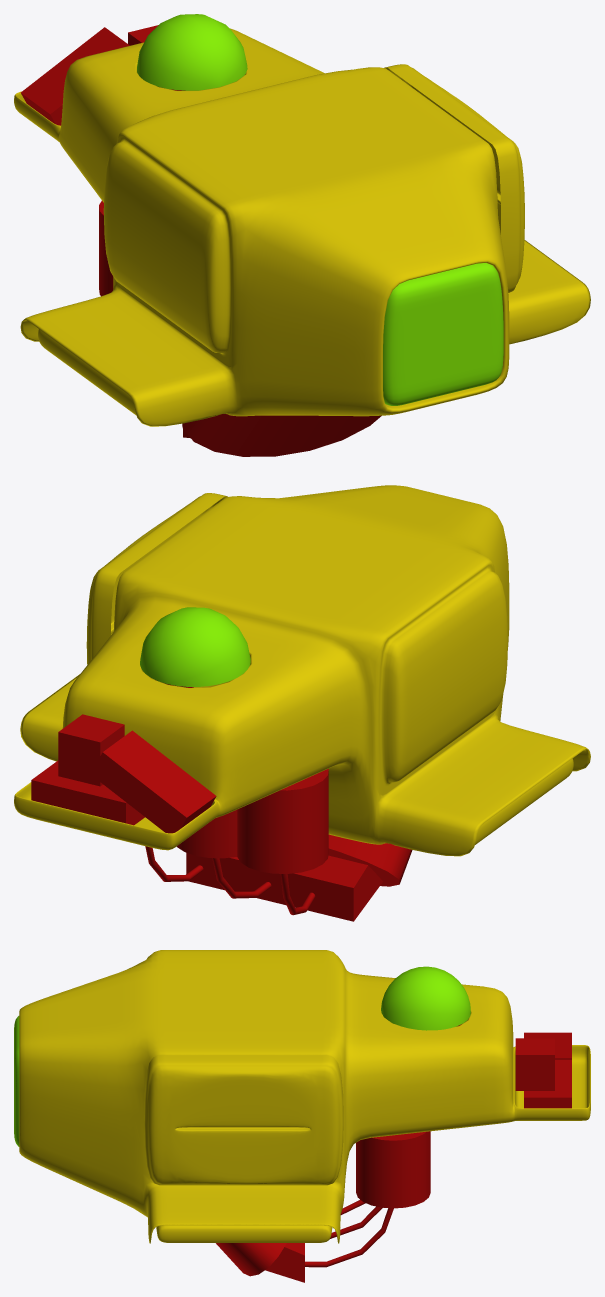
Rendered from ship_test2.fbx.
3 views of the same model, one above another, from view 1: azimuth 30°, elevation 25°; view 2: azimuth 150°, elevation 25°; view 3: azimuth 270°, elevation 25° (orthographic). The views are drawn at different scales.
Parts seen in each view (by area): view 1: polySurface1, pCube6, pSphere1, pCylinder4, polySurface2, pCube3, pCylinder1; view 2: polySurface1, pCylinder1, pSphere1, pCube3, pCube5, polySurface2, pCube2, pCube4, pCylinder4, pCylinder3, pCylinder48, pCylinder47; view 3: polySurface1, polySurface2, pCylinder2, pSphere1, pCube4, pCylinder4, pCube2, pCube5, pCube6, pCylinder47, pCube3.
Boxes of the visible parts, <box> form: polySurface1: <box>14,28,590,426</box>; pCube6: <box>383,263,503,405</box>; pSphere1: <box>137,14,247,90</box>; pCylinder4: <box>182,414,381,456</box>; polySurface2: <box>384,64,524,292</box>; pCube3: <box>20,27,129,125</box>; pCylinder1: <box>99,201,113,296</box>; polySurface1: <box>14,485,590,856</box>; pCylinder1: <box>237,768,328,873</box>; pSphere1: <box>140,607,250,686</box>; pCube3: <box>90,730,216,833</box>; pCube5: <box>186,852,382,921</box>; polySurface2: <box>86,493,227,664</box>; pCube2: <box>31,760,144,825</box>; pCube4: <box>58,714,124,786</box>; pCylinder4: <box>328,834,412,886</box>; pCylinder3: <box>176,810,237,858</box>; pCylinder48: <box>212,858,271,898</box>; pCylinder47: <box>145,846,203,881</box>; polySurface1: <box>19,950,590,1243</box>; polySurface2: <box>144,1055,343,1185</box>; pCylinder2: <box>356,1131,430,1208</box>; pSphere1: <box>381,966,470,1030</box>; pCube4: <box>515,1038,554,1090</box>; pCylinder4: <box>216,1243,286,1276</box>; pCube2: <box>524,1060,571,1108</box>; pCube5: <box>265,1243,304,1282</box>; pCube6: <box>14,1016,19,1146</box>; pCylinder47: <box>305,1208,393,1267</box>; pCube3: <box>524,1032,571,1059</box>.
Size of the model in its own units: 150 by 109 by 203.
